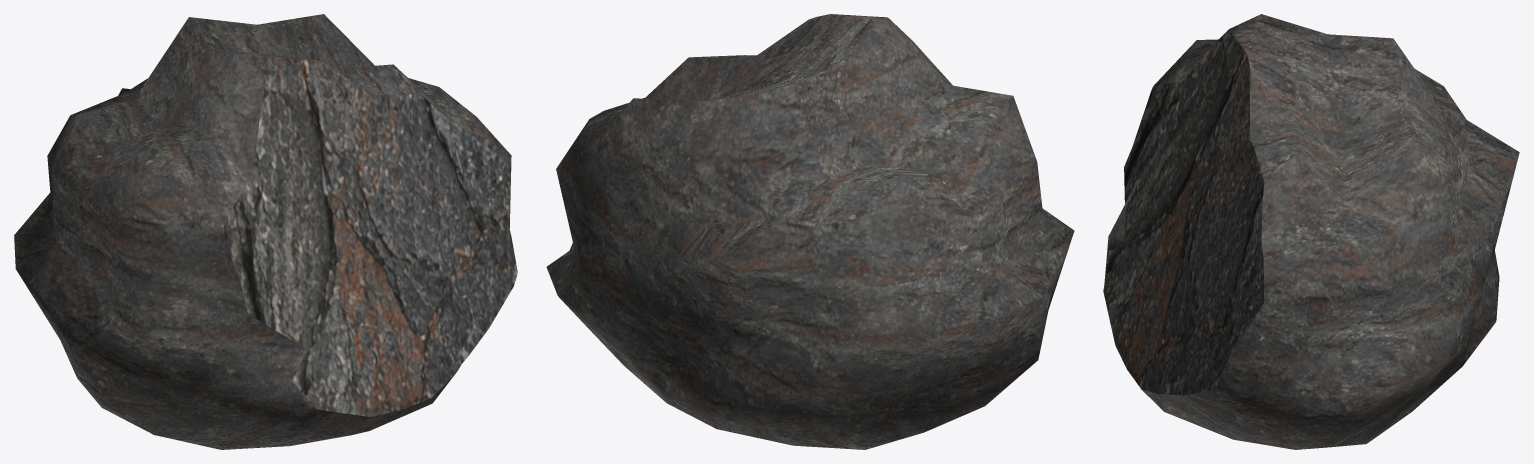
The model's file is SM_HarvestRock_Mined01.fbx.
3 views of the same model, side by side, from view 1: azimuth 30°, elevation 25°; view 2: azimuth 150°, elevation 25°; view 3: azimuth 270°, elevation 25° (orthographic). The views are drawn at different scales.
Parts seen in each view (by area): view 1: SM_HarvestRock_Mined01; view 2: SM_HarvestRock_Mined01; view 3: SM_HarvestRock_Mined01.
Boxes of the visible parts, bbox=[...] form: SM_HarvestRock_Mined01: bbox=[14, 14, 517, 449]; SM_HarvestRock_Mined01: bbox=[546, 14, 1074, 449]; SM_HarvestRock_Mined01: bbox=[1103, 14, 1519, 449].
Size of the model in its own units: 181 by 151 by 148.
2 materials, 2 textured.
